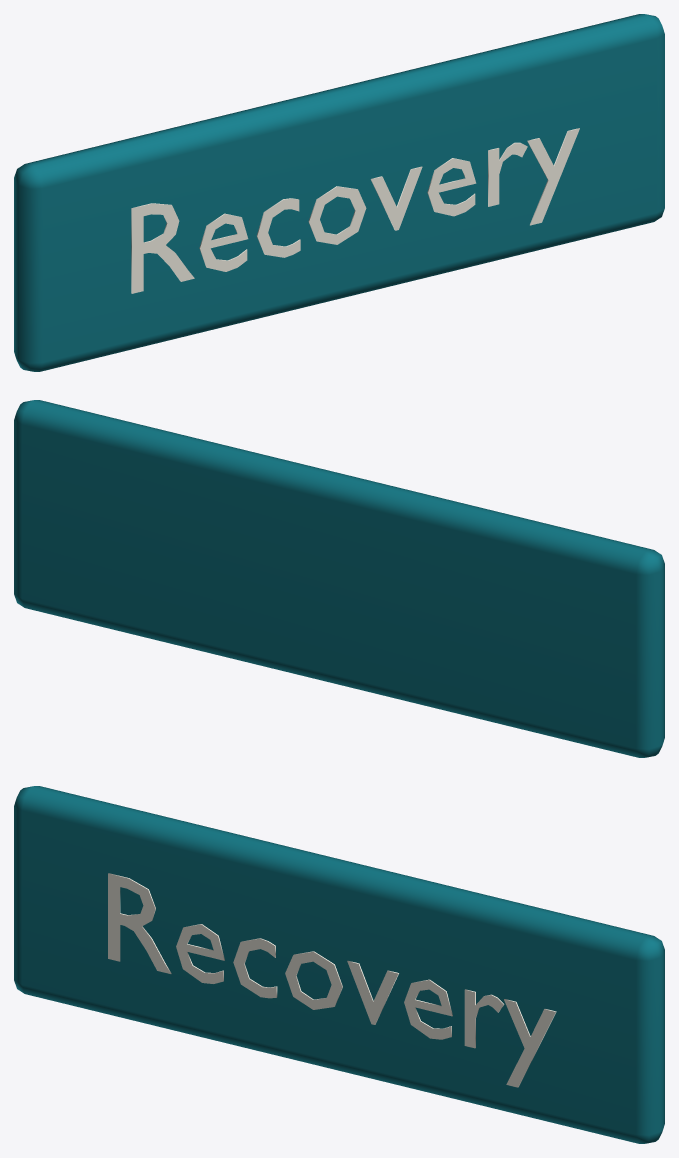
The model's file is Recovery_Room_Sign.glb.
3 views of the same model, one above another, from view 1: azimuth 30°, elevation 25°; view 2: azimuth 150°, elevation 25°; view 3: azimuth 330°, elevation 25° (orthographic).
Parts seen in each view (by area): view 1: Recovery_Room_Sign__Visual; view 2: Recovery_Room_Sign__Visual; view 3: Recovery_Room_Sign__Visual.
Boxes of the visible parts, <box> form: Recovery_Room_Sign__Visual: <box>14,14,664,371</box>; Recovery_Room_Sign__Visual: <box>14,400,664,757</box>; Recovery_Room_Sign__Visual: <box>14,786,664,1143</box>.
Size of the model in its own units: 1.18 by 0.36 by 0.071.
Materials: 1 (1 with a texture image).
